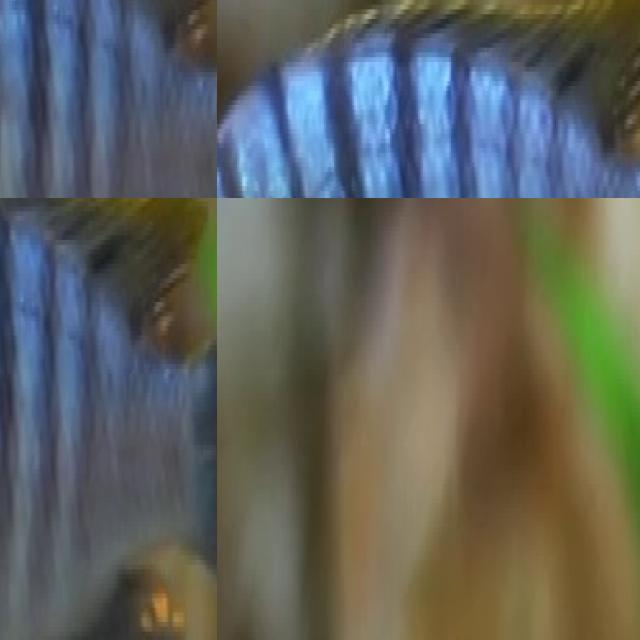fish: (0, 198, 217, 640), (217, 0, 640, 198), (0, 0, 217, 198)
